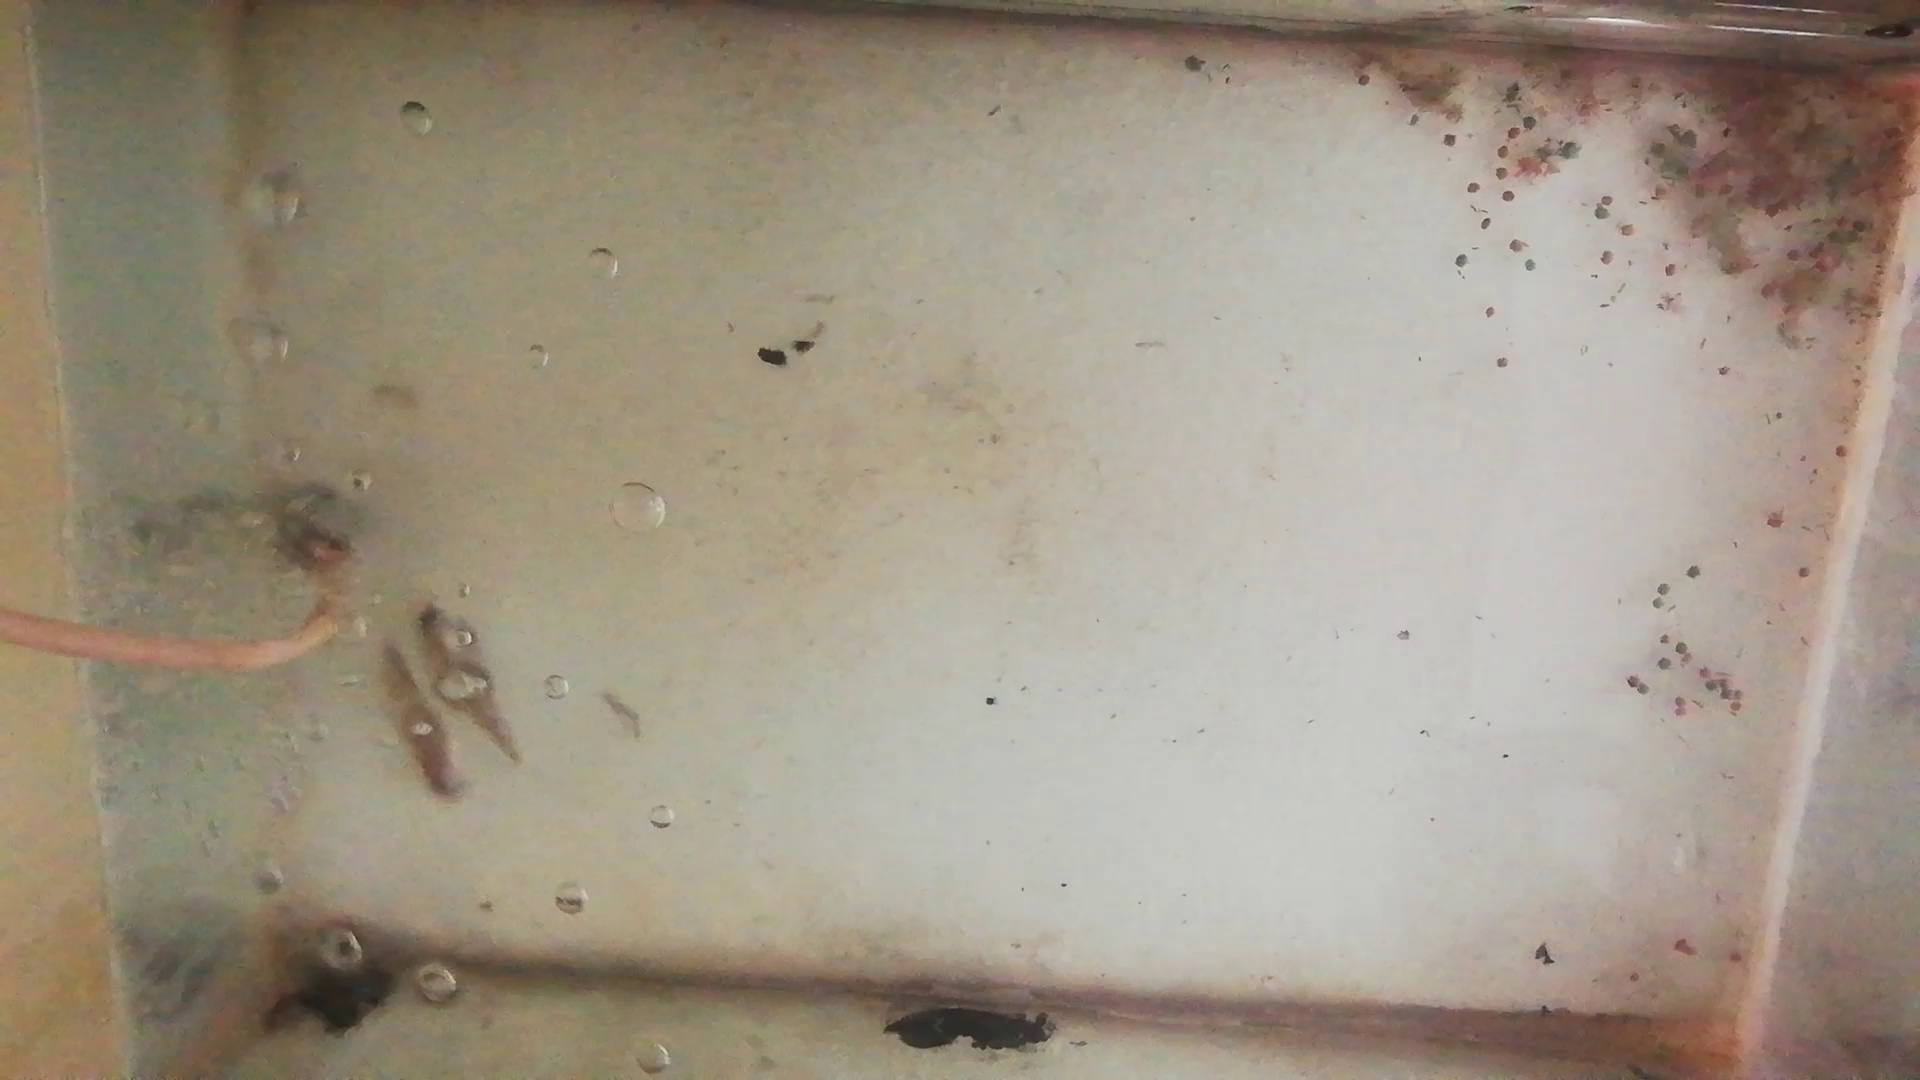fish: (407, 601, 531, 760), (373, 641, 462, 800)
